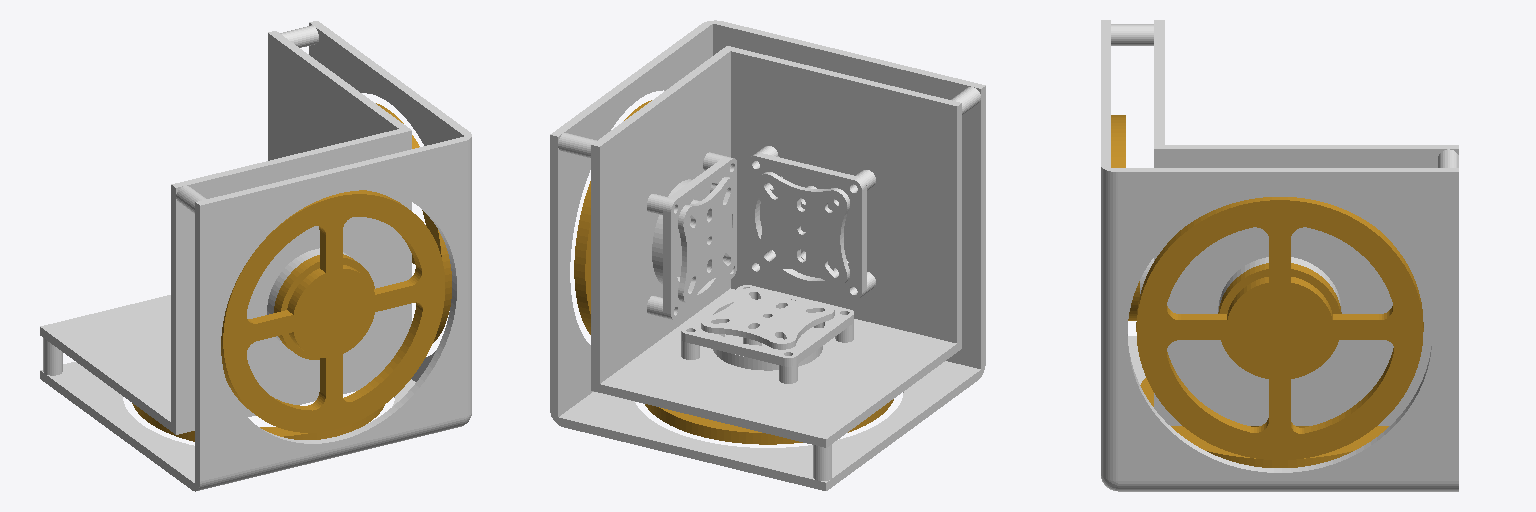
robot.urdf — my_cubli:
<robot name="my_cubli">

  <material name="white">
    <color rgba="0.9 0.9 0.9 1"/>
  </material>
  <material name="gold">
    <color rgba="0.8 0.6 0.2 1"/>
  </material>

  <!-- body STL: X:-50~50mm, Y:0~100mm, Z:-50~50mm, 中心(0,0.05,0) -->
  <link name="base_link">
    <visual>
      <geometry>
        <mesh filename="package://day5/meshes/body.stl" scale="0.001 0.001 0.001"/>
      </geometry>
      <material name="white"/>
    </visual>
    <collision>
      <geometry>
        <mesh filename="package://day5/meshes/body.stl" scale="0.001 0.001 0.001"/>
      </geometry>
    </collision>
    <inertial>
      <origin xyz="0 0.05 0" rpy="0 0 0"/>
      <mass value="0.1"/>
      <inertia ixx="0.0006" ixy="0" ixz="0"
               iyy="0.0006" iyz="0" izz="0.0006"/>
    </inertial>
  </link>

  <!-- flywheel STL: XZ平面の円板, ローカルY軸が回転軸, Y=3~11mm(中心7mm) -->

  <!-- Y軸フライホイール: 底面(Y=0)配置, rpy不要(ローカルY=ワールドY) -->
  <link name="wheel_y">
    <visual>
      <geometry>
        <mesh filename="package://day5/meshes/flywheel.stl" scale="0.001 0.001 0.001"/>
      </geometry>
      <material name="gold"/>
    </visual>
    <inertial>
      <origin xyz="0 0.007 0" rpy="0 0 0"/>
      <mass value="0.1"/>
      <inertia ixx="0.0001" ixy="0" ixz="0"
               iyy="0.0002" iyz="0" izz="0.0001"/>
    </inertial>
  </link>

  <joint name="joint_y" type="continuous">
    <parent link="base_link"/>
    <child link="wheel_y"/>
    <origin xyz="0 0 0" rpy="0 0 0"/>
    <axis xyz="0 1 0"/>
  </joint>

  <!-- X軸フライホイール: 右側面(X=+50mm)配置, rpy="0 0 -1.5708"でローカルY=ワールドX -->
  <link name="wheel_x">
    <visual>
      <geometry>
        <mesh filename="package://day5/meshes/flywheel.stl" scale="0.001 0.001 0.001"/>
      </geometry>
      <material name="gold"/>
    </visual>
    <inertial>
      <origin xyz="0 0.007 0" rpy="0 0 0"/>
      <mass value="0.1"/>
      <inertia ixx="0.0001" ixy="0" ixz="0"
               iyy="0.0002" iyz="0" izz="0.0001"/>
    </inertial>
  </link>

  <joint name="joint_x" type="continuous">
    <parent link="base_link"/>
    <child link="wheel_x"/>
    <origin xyz="0.05 0.05 0" rpy="0 0 1.5708"/>
    <axis xyz="0 1 0"/>
  </joint>

  <!-- Z軸フライホイール: 前面(Z=+50mm)配置, rpy="1.5708 0 0"でローカルY=ワールドZ -->
  <link name="wheel_z">
    <visual>
      <geometry>
        <mesh filename="package://day5/meshes/flywheel.stl" scale="0.001 0.001 0.001"/>
      </geometry>
      <material name="gold"/>
    </visual>
    <inertial>
      <origin xyz="0 0.007 0" rpy="0 0 0"/>
      <mass value="0.1"/>
      <inertia ixx="0.0001" ixy="0" ixz="0"
               iyy="0.0002" iyz="0" izz="0.0001"/>
    </inertial>
  </link>

  <joint name="joint_z" type="continuous">
    <parent link="base_link"/>
    <child link="wheel_z"/>
    <origin xyz="0 0.05 -0.05" rpy="1.5708 0 0"/>
    <axis xyz="0 1 0"/>
  </joint>

</robot>

--- Render facts (derived) ---
Views: 3 orthographic renders of the robot side by side, from view 1: azimuth 30°, elevation 25°; view 2: azimuth 150°, elevation 25°; view 3: azimuth 270°, elevation 25°.
Model my_cubli with 4 links and 3 joints (3 continuous), rooted at base_link, posed all joints at 0.
Visible links, largest first — view 1: base_link, wheel_y, wheel_z, wheel_x; view 2: base_link, wheel_z, wheel_x; view 3: base_link, wheel_x, wheel_z, wheel_y.
Boxes of the visible links, x1,y1,x2,y2 form: base_link: (40,21,471,491); wheel_y: (221,190,444,432); wheel_z: (132,403,384,441); wheel_x: (376,103,451,342); base_link: (550,20,985,490); wheel_z: (645,399,893,444); wheel_x: (574,100,651,334); base_link: (1101,20,1458,491); wheel_x: (1136,197,1423,459); wheel_z: (1140,378,1388,467); wheel_y: (1111,115,1139,320).
Bounding box of the posed robot: 0.1 × 0.1 × 0.1 m (x, y, z).
Meshes: 2 distinct files referenced, 4 mesh visuals loaded (2 binary STL).
